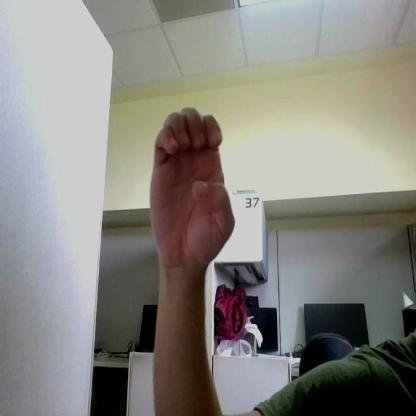E: (150, 107, 235, 266)
